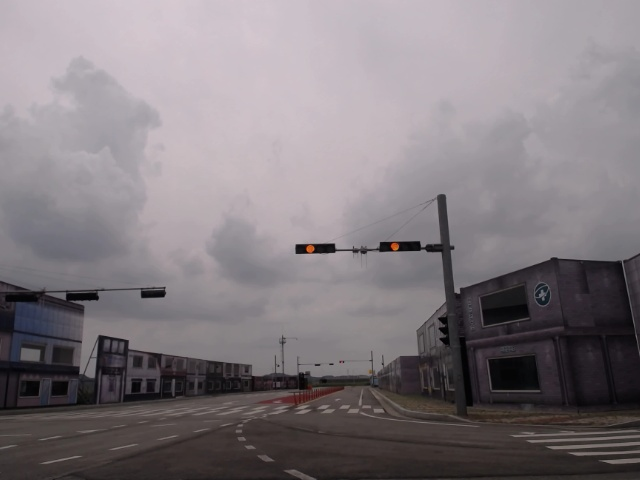orange_4: (293, 242, 338, 256), (378, 239, 422, 253)
